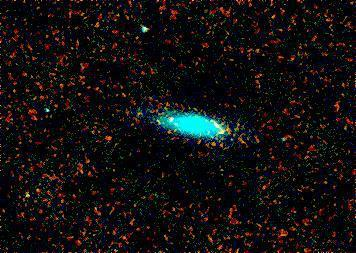star: (9, 180, 39, 210)
